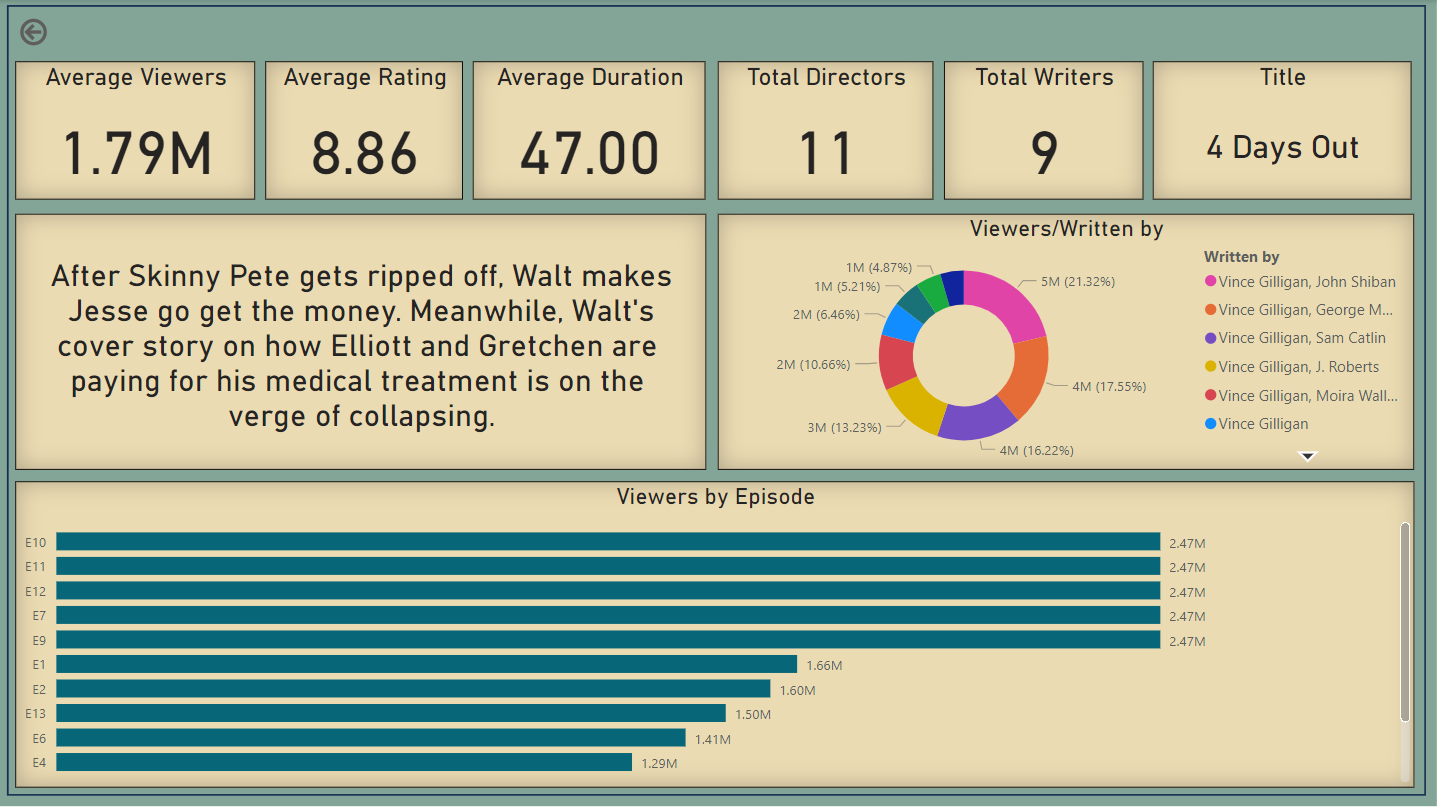

Layout of this report page (visuals, bound fields, positions):
{"tool":"powerbi","page":{"name":"Season 2","canvas":[1280,720],"ordinal":2},"visuals":[{"type":"card","title":"Average Viewers","fields":{"Values":["breaking_bad.AvergeViewsSeason2"]},"box":[14.5,54.3,213.5,123],"z":0},{"type":"card","title":"Average Rating","fields":{"Values":["breaking_bad.Average Rating Season 2"]},"box":[237.6,54.3,176.1,123],"z":1000},{"type":"card","title":"Average Duration","fields":{"Values":["breaking_bad.Average Duration Season 2"]},"box":[422.1,54.3,207.4,123],"z":2000},{"type":"card","title":"Total Directors","fields":{"Values":["Count(breaking_bad.Directed by)"]},"box":[640.4,54.3,191.8,123],"z":3000},{"type":"card","title":"Total Writers","fields":{"Values":["Count(breaking_bad.Written by)"]},"box":[841.8,54.3,177.3,123],"z":4000},{"type":"card","title":"Title","fields":{"Values":["Min(breaking_bad.Title)"]},"box":[1027.5,54.3,230.4,123],"z":5000},{"type":"card","fields":{"Values":["Min(breaking_bad.Summary)"]},"box":[14.5,190.6,615.1,227.9],"z":6000},{"type":"donutChart","title":"Viewers/Written by","fields":{"Y":["Sum(breaking_bad.US.viewers_million)"],"Category":["breaking_bad.Written by"]},"box":[640.4,190.6,619.9,227.9],"z":7000},{"type":"actionButton","box":[14.5,12.1,107.3,32.6],"z":8000},{"type":"barChart","title":"Viewers  by Episode","fields":{"Y":["Sum(breaking_bad.US.viewers_million)"],"Category":["breaking_bad.Episode"]},"box":[14.5,428.1,1245.8,272.6],"z":9000}]}

Visuals, with their boxes in screenshot pixels (x1, y1, x2, y2), scaled from the page's 1280x720 canvas onto the 1437x807 screenshot:
"Average Viewers" card: <box>16,61,256,199</box>
"Average Rating" card: <box>267,61,464,199</box>
"Average Duration" card: <box>474,61,707,199</box>
"Total Directors" card: <box>719,61,934,199</box>
"Total Writers" card: <box>945,61,1144,199</box>
"Title" card: <box>1154,61,1412,199</box>
card - Min(breaking_bad.Summary): <box>16,214,707,469</box>
"Viewers/Written by" donutChart: <box>719,214,1415,469</box>
actionButton: <box>16,14,137,50</box>
"Viewers  by Episode" barChart: <box>16,480,1415,785</box>
